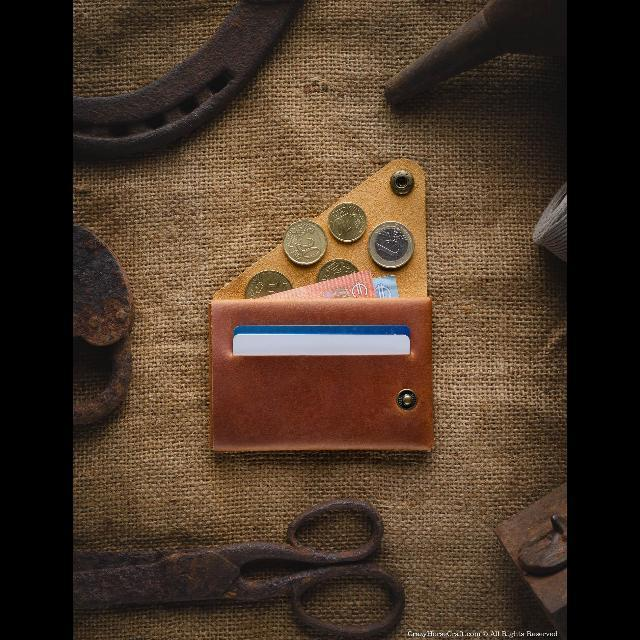wallet: (203, 151, 442, 457)
